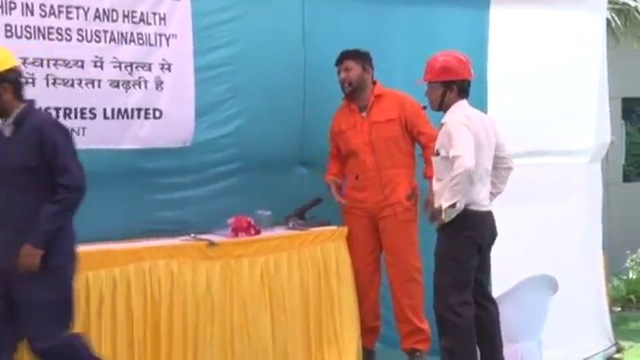helmet: (411, 50, 478, 87), (1, 42, 24, 75)
helmet_off: (335, 47, 376, 100)
helmet_on: (410, 50, 483, 114), (1, 40, 24, 121)
person: (328, 46, 439, 360), (410, 48, 516, 360), (1, 43, 88, 360)
